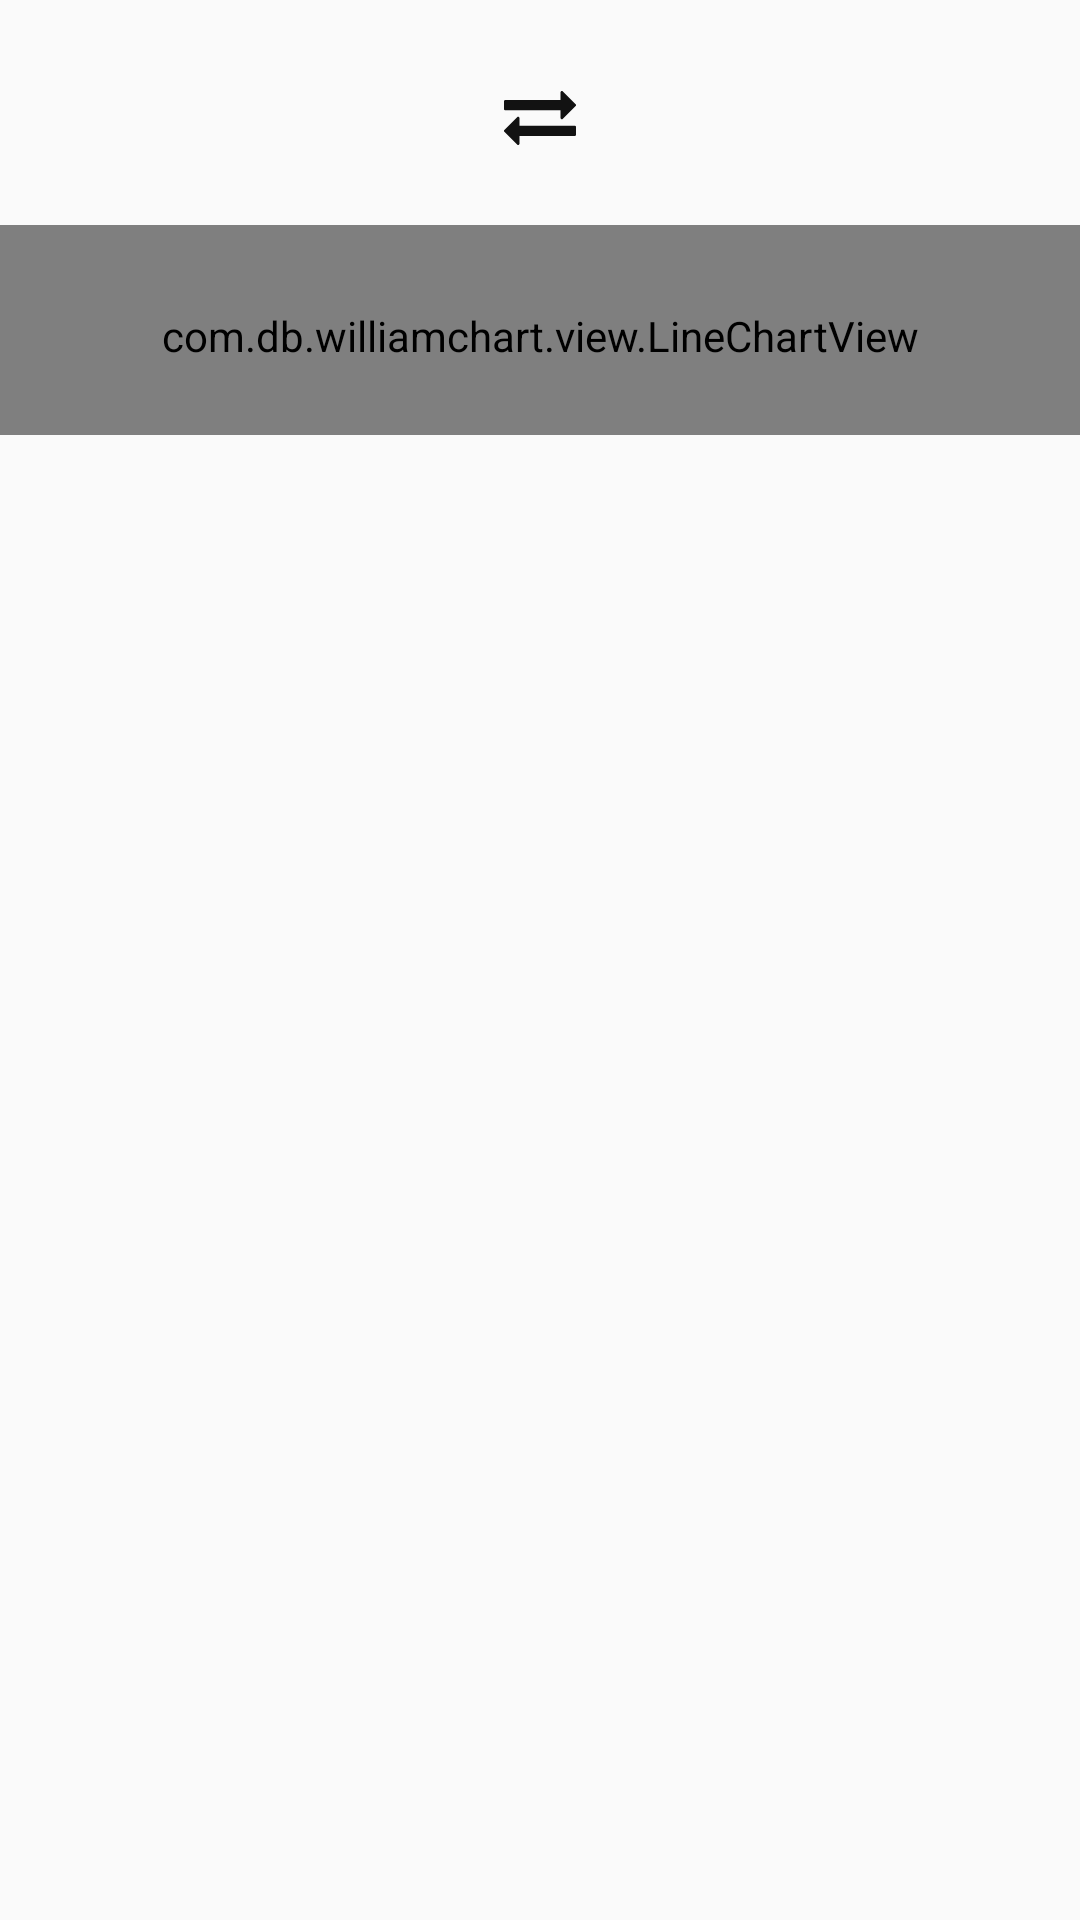

Where icons sit on this 1080w x 1920h app screen, as (x1, y1, x2, y2):
exchange: (504, 91, 576, 145)
